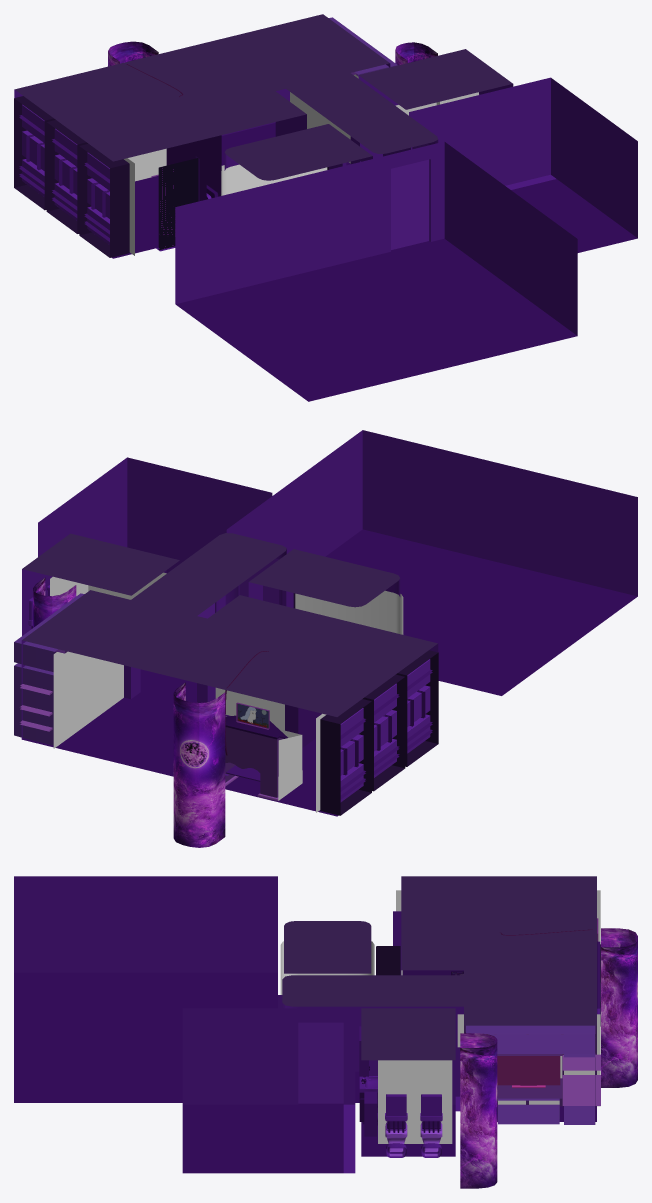
Rendered from room1.glb.
The picture shows the model from 3 angles, top to bottom: view 1: azimuth 30°, elevation 25°; view 2: azimuth 150°, elevation 25°; view 3: azimuth 270°, elevation 25°; orthographic projection. The views are drawn at different scales.
Parts seen in each view (by area): view 1: Plane, Plane.002, Cube.003, Cube.006, Cube.014, Plane.001, Cube; view 2: Plane, Plane.002, Plane.001, Cube.014, Cube.008, Cube.005, Cube.006, Cube.003, Cube, Cube.001; view 3: Plane, Plane.002, Cube.008, Plane.001, Cube.017, Cube.023, Cube.018, Cube.024, Cube.022, Cube.015.
Boxes of the visible parts, x1,y1,x2,y2 form: Plane: (14,41,637,401); Plane.002: (15,14,512,180); Cube.003: (79,143,129,257); Cube.006: (46,120,87,233); Cube.014: (14,96,55,210); Plane.001: (124,74,478,255); Cube: (166,135,221,200); Plane: (21,430,637,847); Plane.002: (22,533,437,716); Plane.001: (50,572,326,812); Cube.014: (320,699,371,815); Cube.008: (14,593,84,745); Cube.005: (225,715,287,800); Cube.006: (363,674,405,791); Cube.003: (396,650,438,766); Cube: (285,704,321,747); Cube.001: (236,702,269,729); Plane: (14,876,637,1188); Plane.002: (282,876,596,1060); Cube.008: (464,1025,600,1124); Plane.001: (378,890,600,1143); Cube.017: (420,1094,442,1132); Cube.023: (385,1094,407,1132); Cube.018: (420,1121,442,1157); Cube.024: (385,1121,407,1157); Cube.022: (364,1091,377,1136); Cube.015: (359,1026,377,1124).
Bounding box in the file's own units: 52.87 × 17.23 × 69.22.
9 materials, 6 textured.
